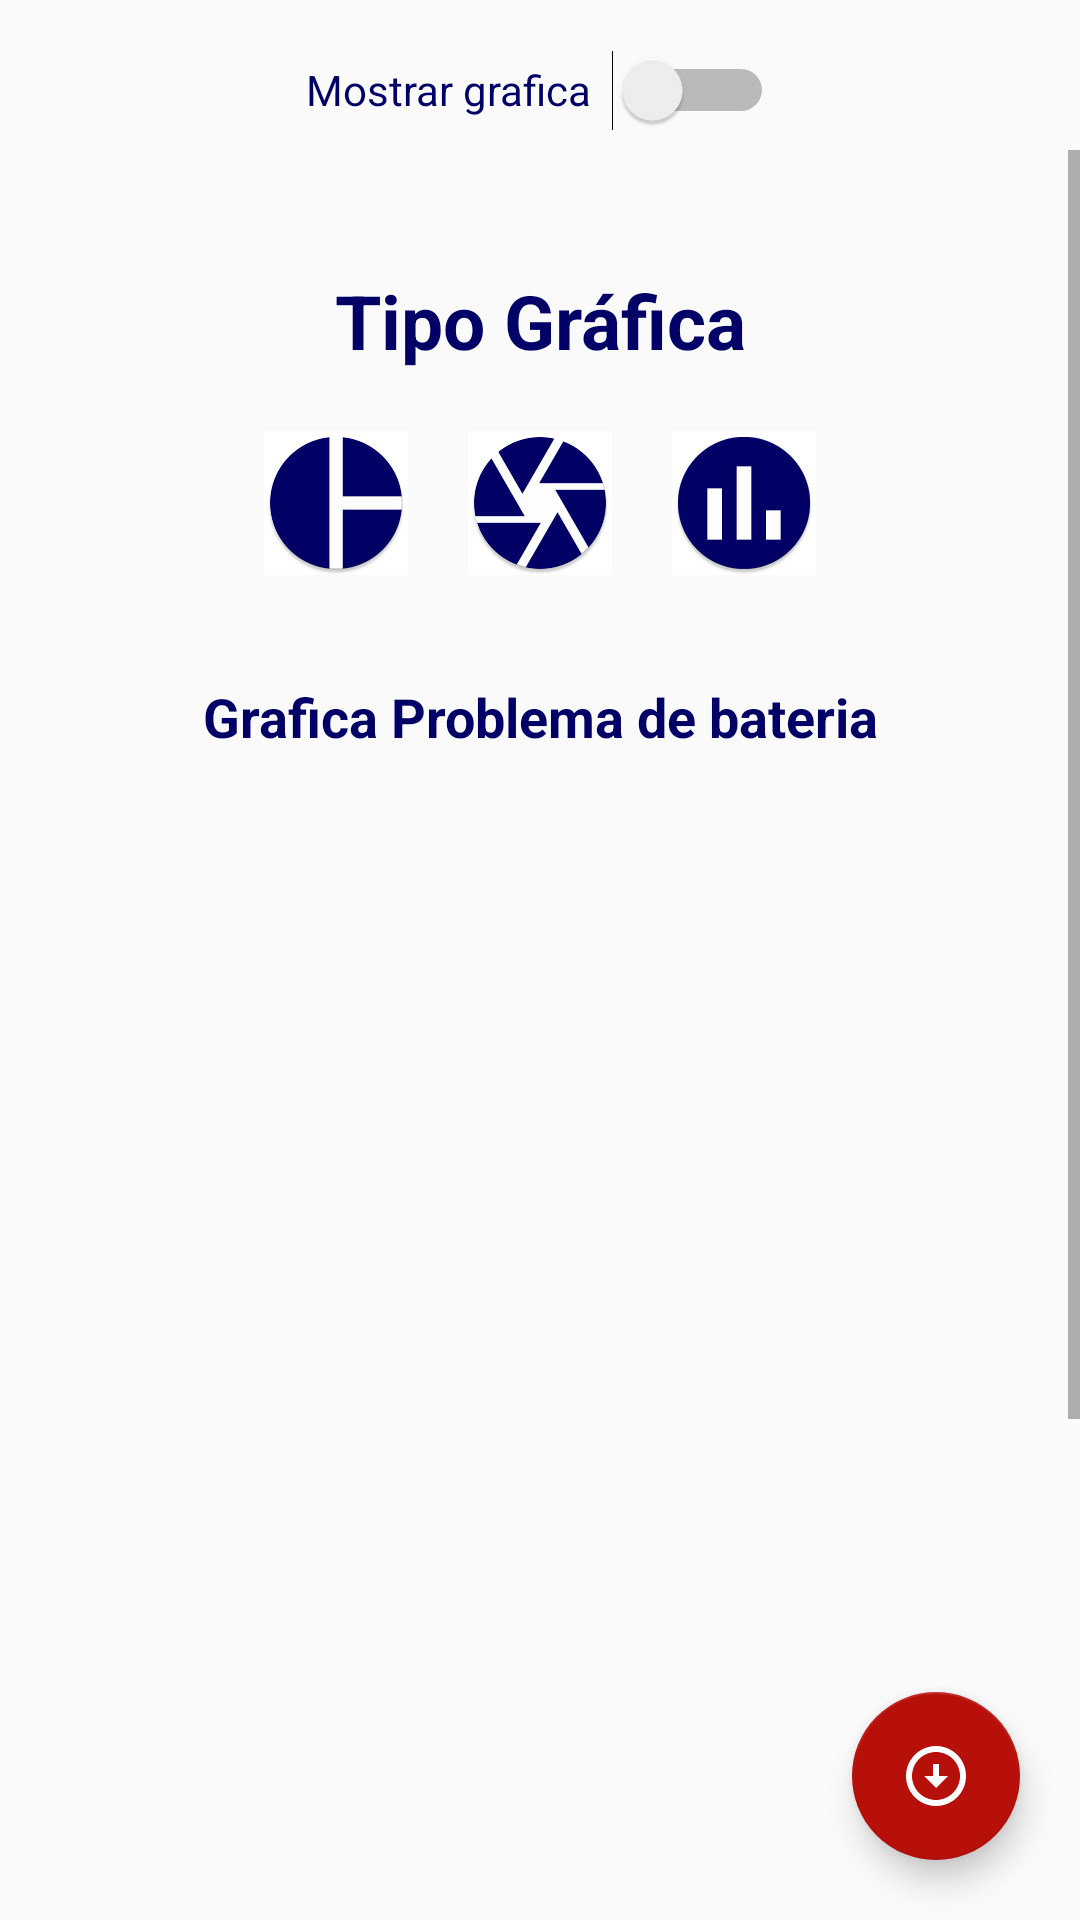

Locate icon controls on the screen. Image size 1080 x 1920, boxes as (x1, y1, x2, y2).
bar: (678, 437, 811, 572)
pie: (270, 437, 403, 572)
